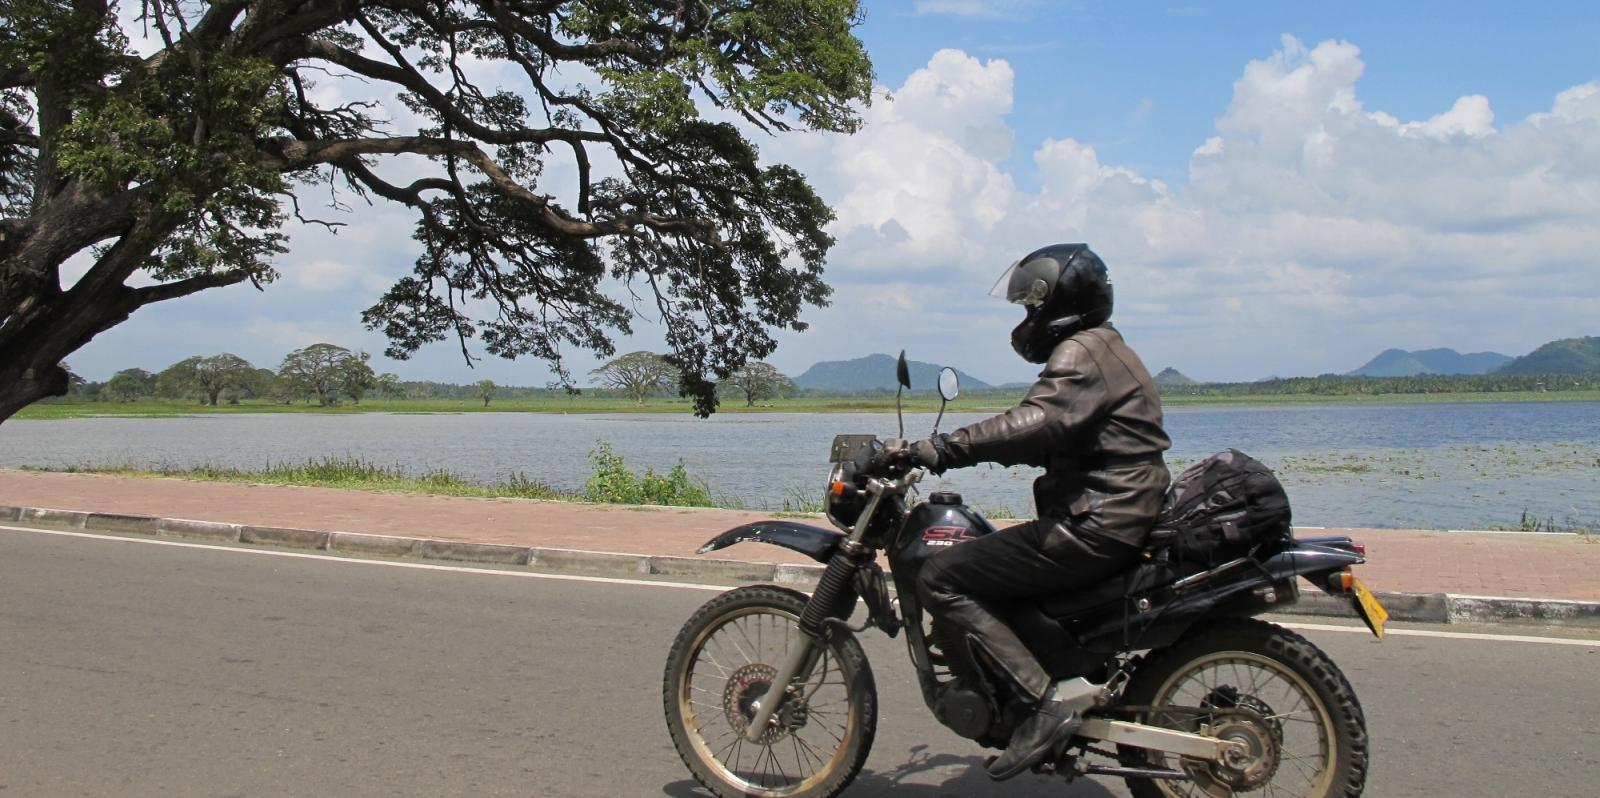motorbike: (662, 350, 1389, 798)
